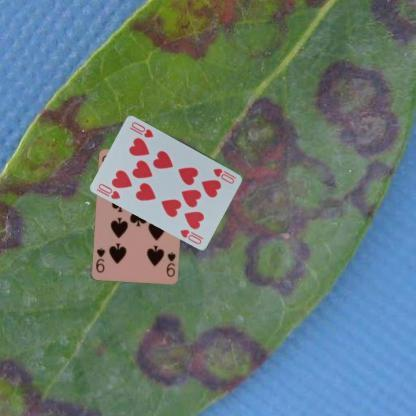10h: (210, 165, 238, 185), (96, 180, 122, 200)
9s: (163, 249, 177, 278)
